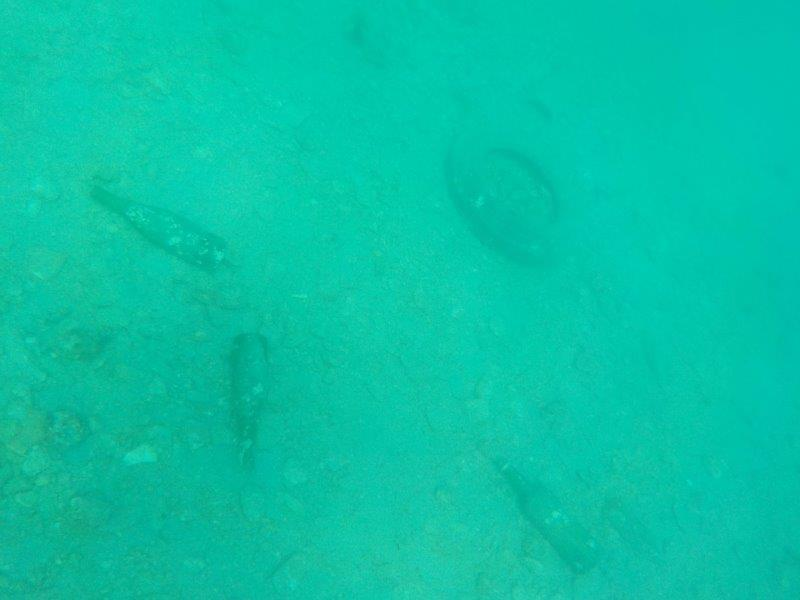bottle: (491, 451, 610, 576), (87, 179, 231, 275), (221, 327, 279, 477)
tire: (439, 119, 588, 273)
